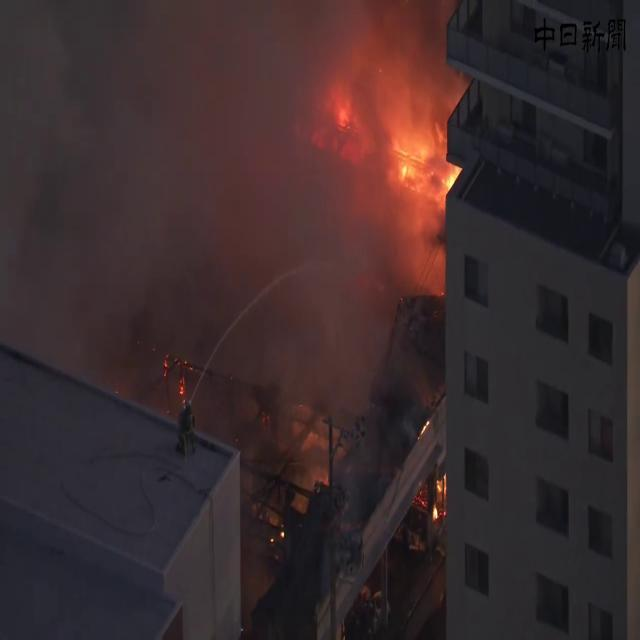Fire: (388, 109, 460, 228), (431, 464, 448, 526)
Smoke: (1, 1, 453, 464)
